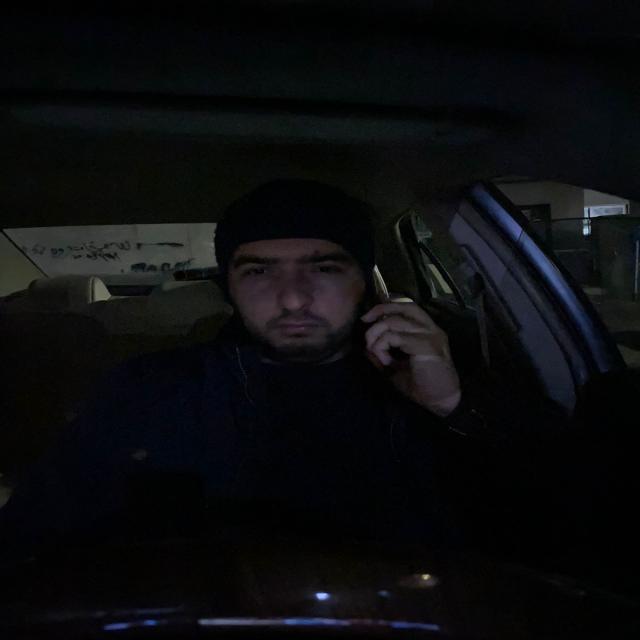mobile: (362, 244, 399, 324)
person: (210, 189, 376, 366)
